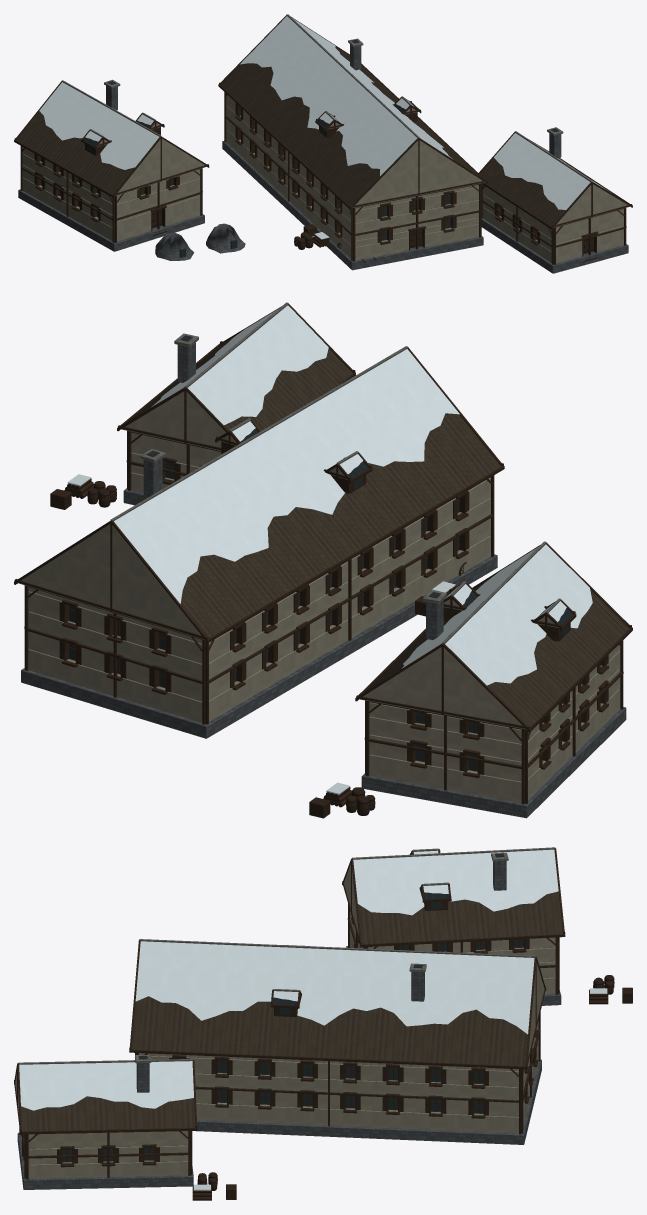
The model's file is kitchens.glb.
3 views of the same model, one above another, from view 1: azimuth 30°, elevation 25°; view 2: azimuth 150°, elevation 25°; view 3: azimuth 270°, elevation 25° (orthographic). The views are drawn at different scales.
Visible parts, largest first — view 1: ENV_R5_Plaster, ENV_R5_Snow, ENV_R5_Timber, ENV_R5_Shingle, ENV_R5_Stone, ENV_R5_Trim, ENV_R5_Dark; view 2: ENV_R5_Plaster, ENV_R5_Snow, ENV_R5_Timber, ENV_R5_Shingle, ENV_R5_Stone, ENV_R5_Trim, ENV_R5_Dark; view 3: ENV_R5_Snow, ENV_R5_Shingle, ENV_R5_Plaster, ENV_R5_Timber, ENV_R5_Stone, ENV_R5_Trim, ENV_R5_Dark.
Part boxes in pixels (<box>): ENV_R5_Plaster: <box>22,95,629,263</box>; ENV_R5_Snow: <box>39,16,610,239</box>; ENV_R5_Timber: <box>14,15,632,264</box>; ENV_R5_Shingle: <box>16,46,631,226</box>; ENV_R5_Stone: <box>18,44,628,273</box>; ENV_R5_Trim: <box>62,14,592,181</box>; ENV_R5_Dark: <box>41,39,558,257</box>; ENV_R5_Plaster: <box>17,391,620,802</box>; ENV_R5_Snow: <box>67,305,592,794</box>; ENV_R5_Timber: <box>14,304,632,818</box>; ENV_R5_Shingle: <box>16,335,629,727</box>; ENV_R5_Stone: <box>21,342,626,818</box>; ENV_R5_Trim: <box>110,302,560,643</box>; ENV_R5_Dark: <box>69,335,568,771</box>; ENV_R5_Snow: <box>19,849,607,1190</box>; ENV_R5_Shingle: <box>16,891,562,1131</box>; ENV_R5_Plaster: <box>15,864,555,1178</box>; ENV_R5_Timber: <box>14,848,632,1200</box>; ENV_R5_Stone: <box>17,861,561,1189</box>; ENV_R5_Trim: <box>18,847,555,1064</box>; ENV_R5_Dark: <box>62,853,523,1161</box>.
Size of the model in its own units: 63.93 by 17.61 by 64.05.
9 materials, 8 textured.
